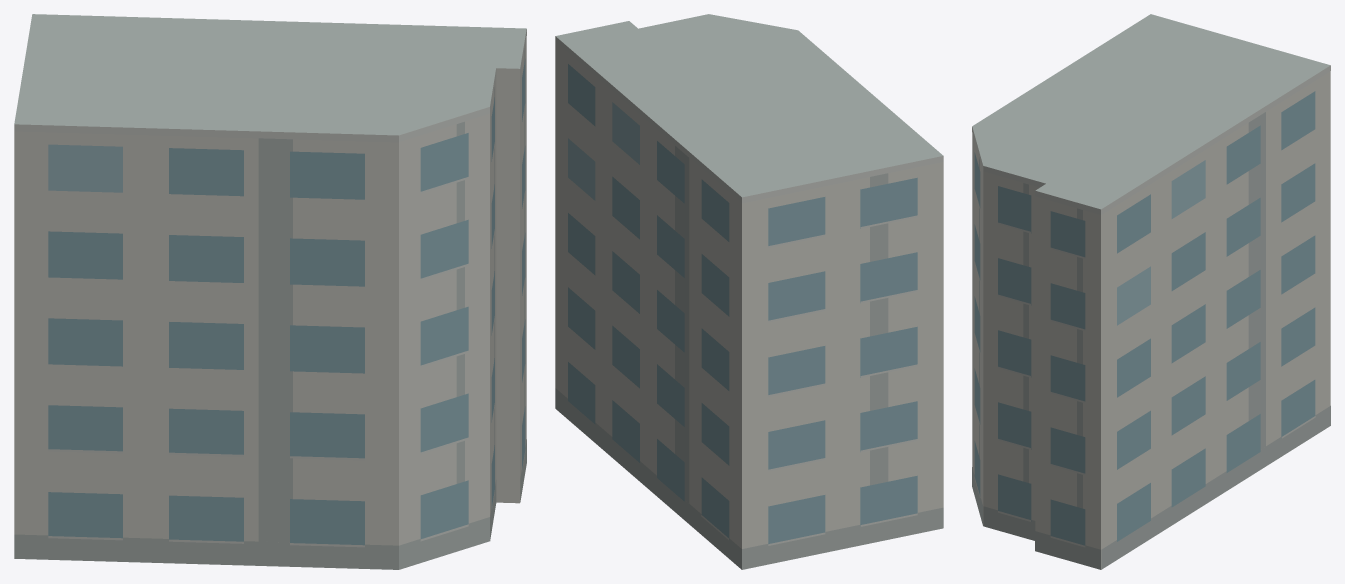
Rendered from residential-f5899f3f-fc1a-43a7-82fa-510557b83b03.glb.
3 views of the same model, side by side, from view 1: azimuth 30°, elevation 25°; view 2: azimuth 150°, elevation 25°; view 3: azimuth 270°, elevation 25° (orthographic). The views are drawn at different scales.
Parts seen in each view (by area): view 1: residential-f5899f3f-fc1a-43a7-82fa-510557b83b03.tmp; view 2: residential-f5899f3f-fc1a-43a7-82fa-510557b83b03.tmp; view 3: residential-f5899f3f-fc1a-43a7-82fa-510557b83b03.tmp.
Part boxes in pixels (x1,y1,x2,y2): residential-f5899f3f-fc1a-43a7-82fa-510557b83b03.tmp: (14,14,526,569); residential-f5899f3f-fc1a-43a7-82fa-510557b83b03.tmp: (555,14,943,569); residential-f5899f3f-fc1a-43a7-82fa-510557b83b03.tmp: (972,14,1330,569).
Bounding box in the file's own units: 17.74 × 15.25 × 13.76.
